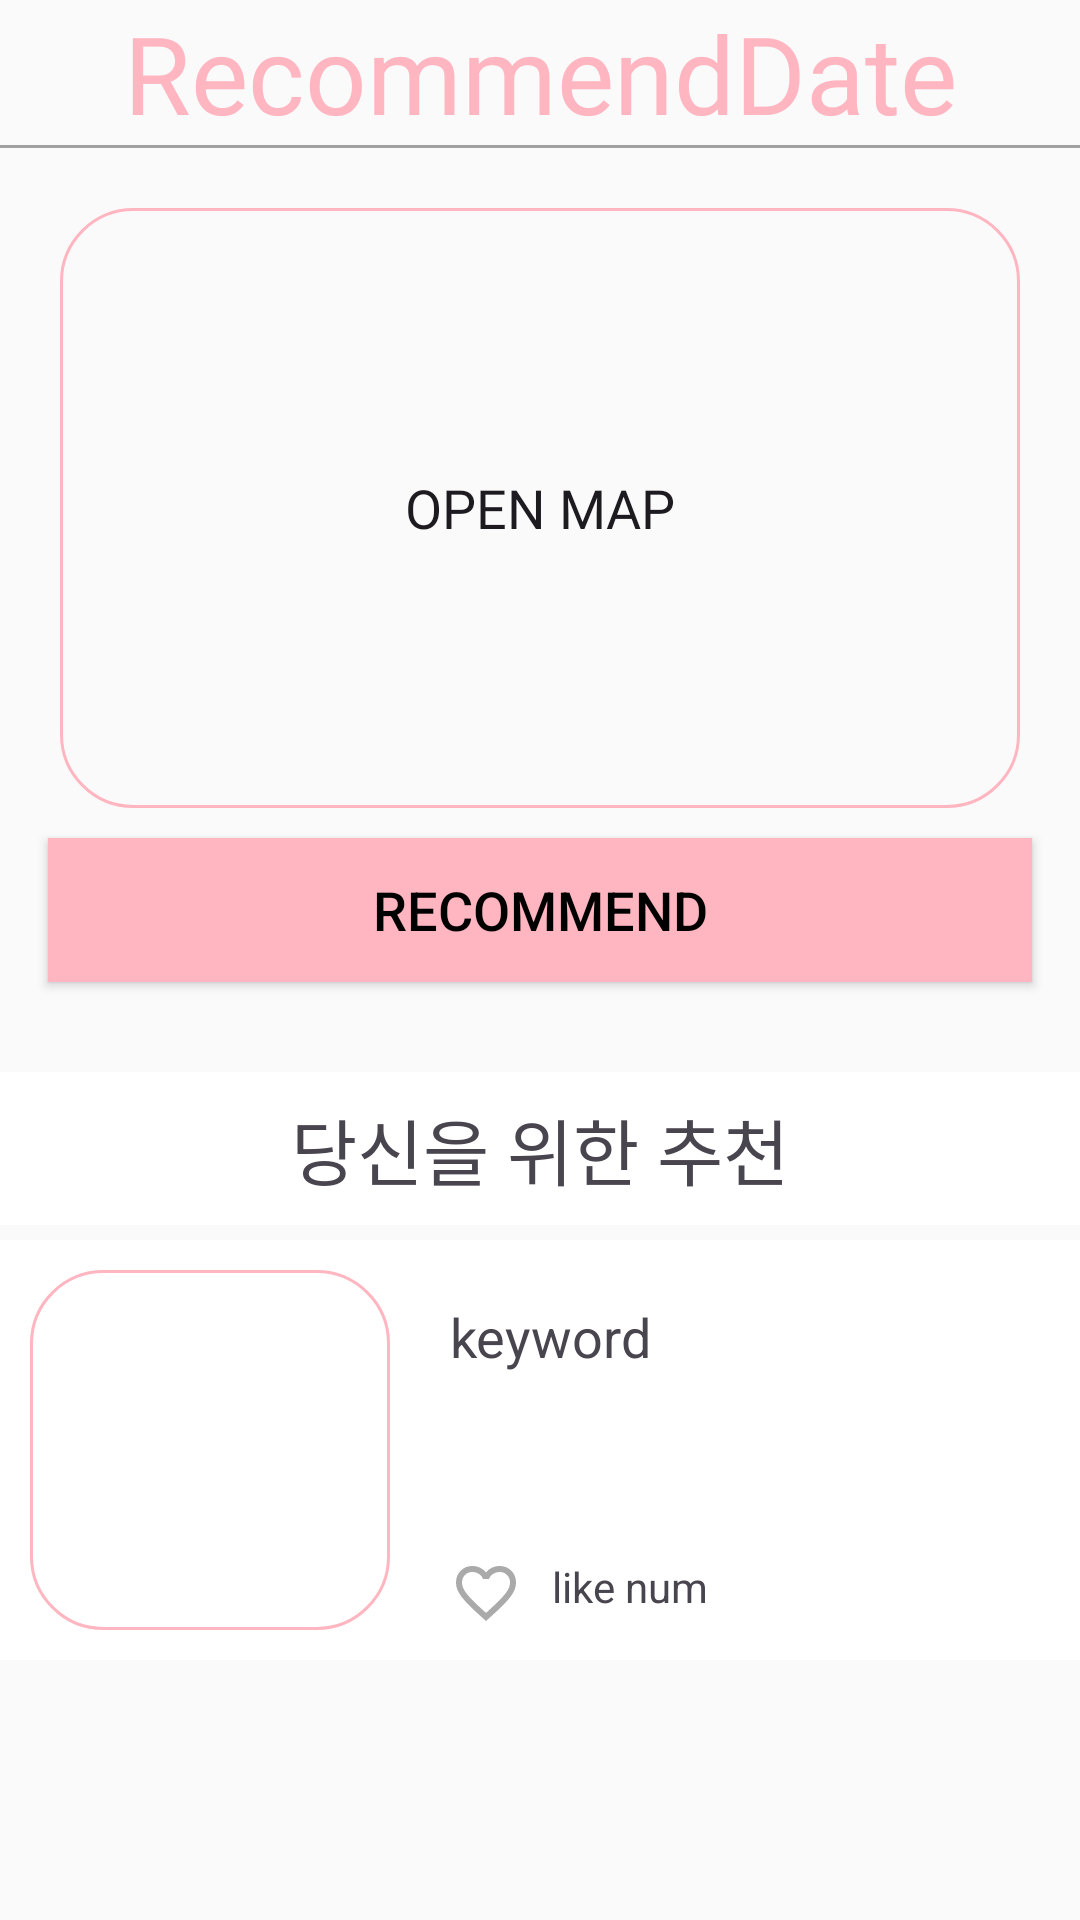

Icons on this 1080px×1920px Android screen, each with its box as [left=x1, top=y1, right=x2, bottom=y2]:
favorite: [left=456, top=1566, right=516, bottom=1621]
